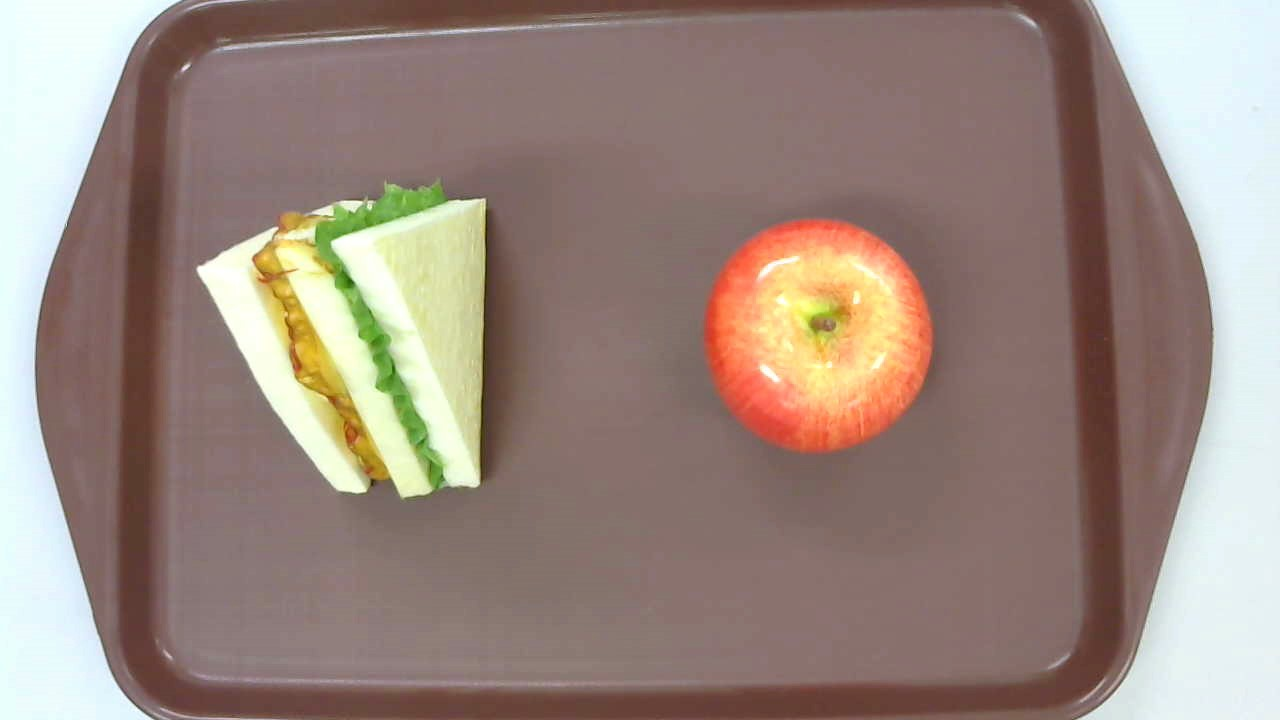red apple: (704, 217, 933, 454)
sandwich: (195, 179, 488, 499)
